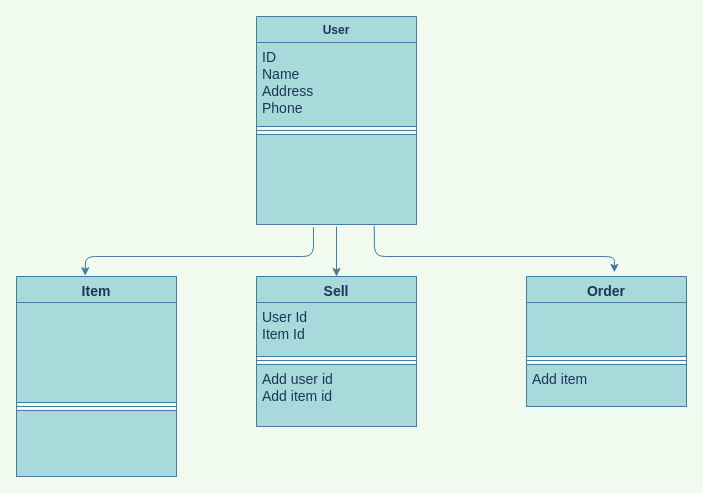
This 703x493 diagram has some shape labels left out. The centre of each missing label's shape, as x and y in pixels:
Add name Add address Add phone Add type: the point at 336,179
Add name Add price Add quantity: the point at 96,443
Id Name Type Price Quantity: the point at 96,352
Id User Id Order Id: the point at 606,329
